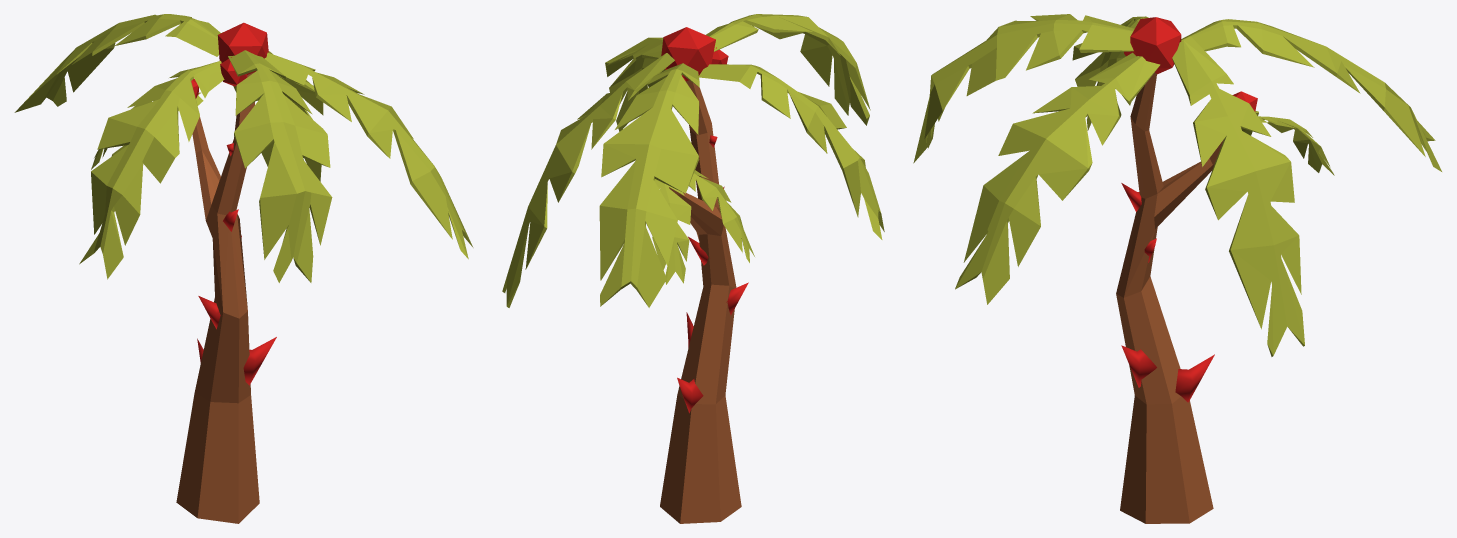
Rendered from Factory_Tree_2.fbx.
3 views of the same model, side by side, from view 1: azimuth 30°, elevation 25°; view 2: azimuth 150°, elevation 25°; view 3: azimuth 270°, elevation 25° (orthographic). The views are drawn at different scales.
Visible parts, largest first — view 1: Factory Tree 2; view 2: Factory Tree 2; view 3: Factory Tree 2.
Boxes of the visible parts, x1=… form: Factory Tree 2: x1=14, y1=14, x2=473, y2=523; Factory Tree 2: x1=502, y1=14, x2=884, y2=523; Factory Tree 2: x1=913, y1=14, x2=1441, y2=523.
Size of the model in its own units: 1630 by 2272 by 2157.
